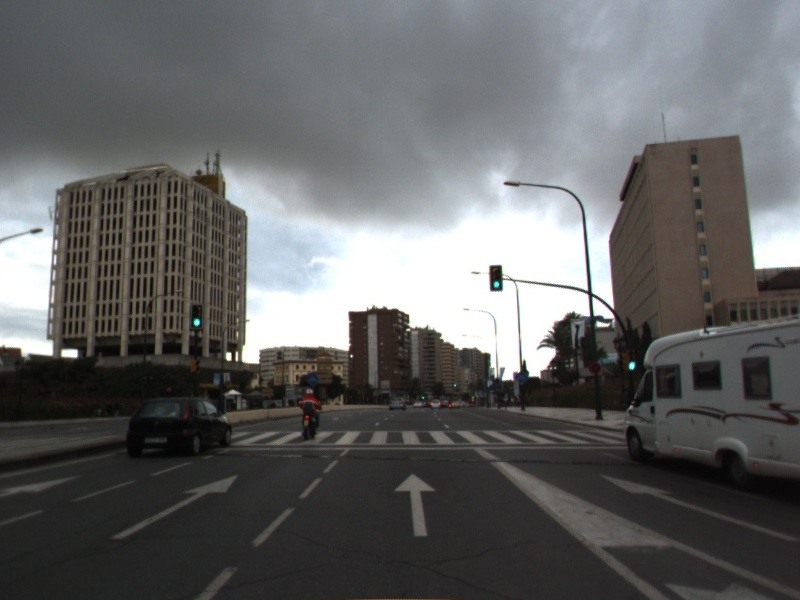STRAIGHT: (599, 472, 800, 543), (105, 472, 241, 541), (392, 471, 439, 538), (1, 472, 87, 503)
